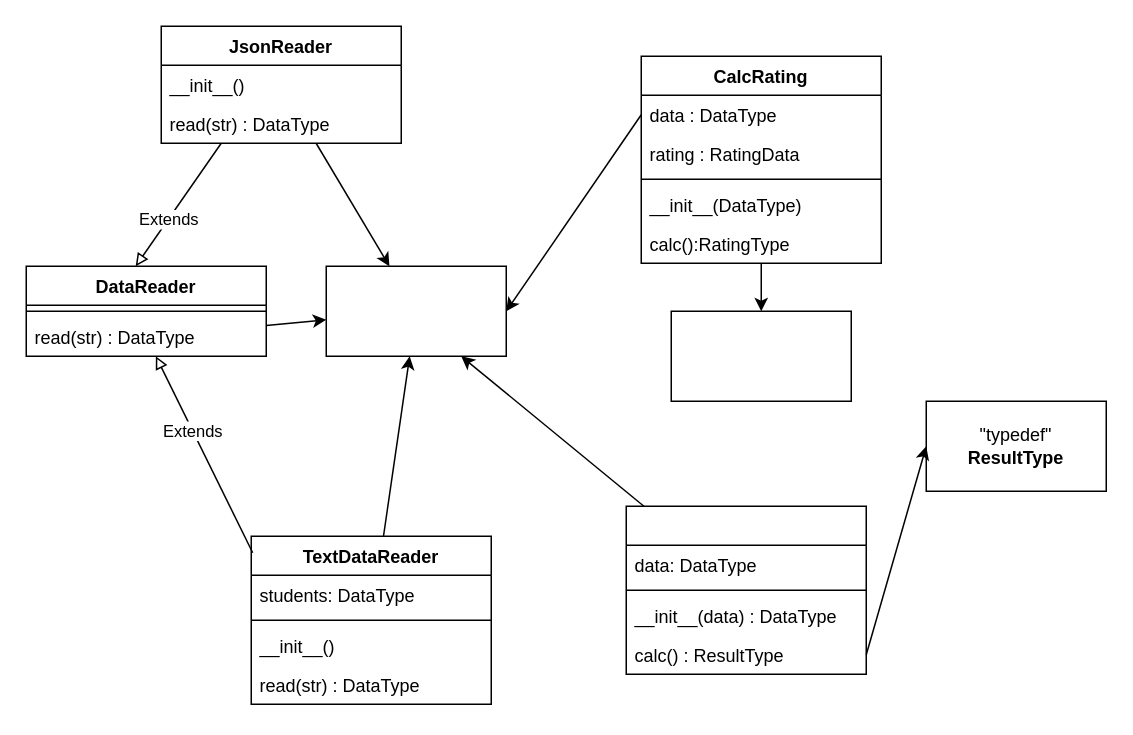
This 1133x735 diagram has some shape labels left out. The box of each missing label's shape, as (x1, y1, x2, y2) in pixels:
"typedef" DataType: (325, 265, 506, 356)
"typedef" RatingType: (670, 310, 851, 401)
DebtStudent: (625, 505, 866, 674)
